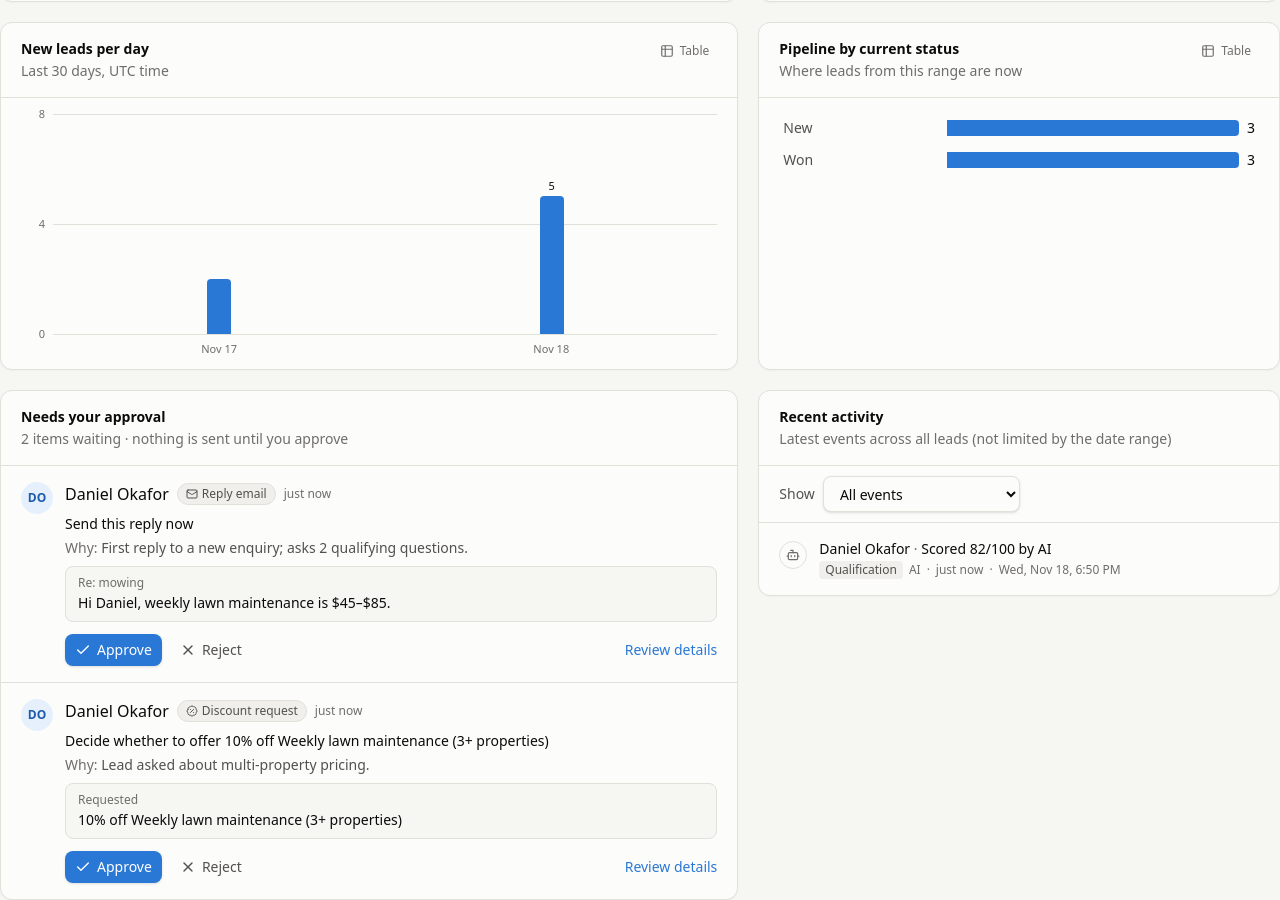
Test: Approvals › shows what needs approval, the AI recommendation, reason and preview, and approves via the API
The width and height of the screenshot is (1280, 900).
(page scrolled)
Expected: the text "Send this reply now" is shown, [65,514,193,533]
Expected: the text "First reply to a new enquiry; asks 2 qualifying questions." is shown, [101,538,468,557]
Click the button with aria-label "Approve discount request for Daniel Okafor".
click(113, 867)  # box [65,851,162,883]
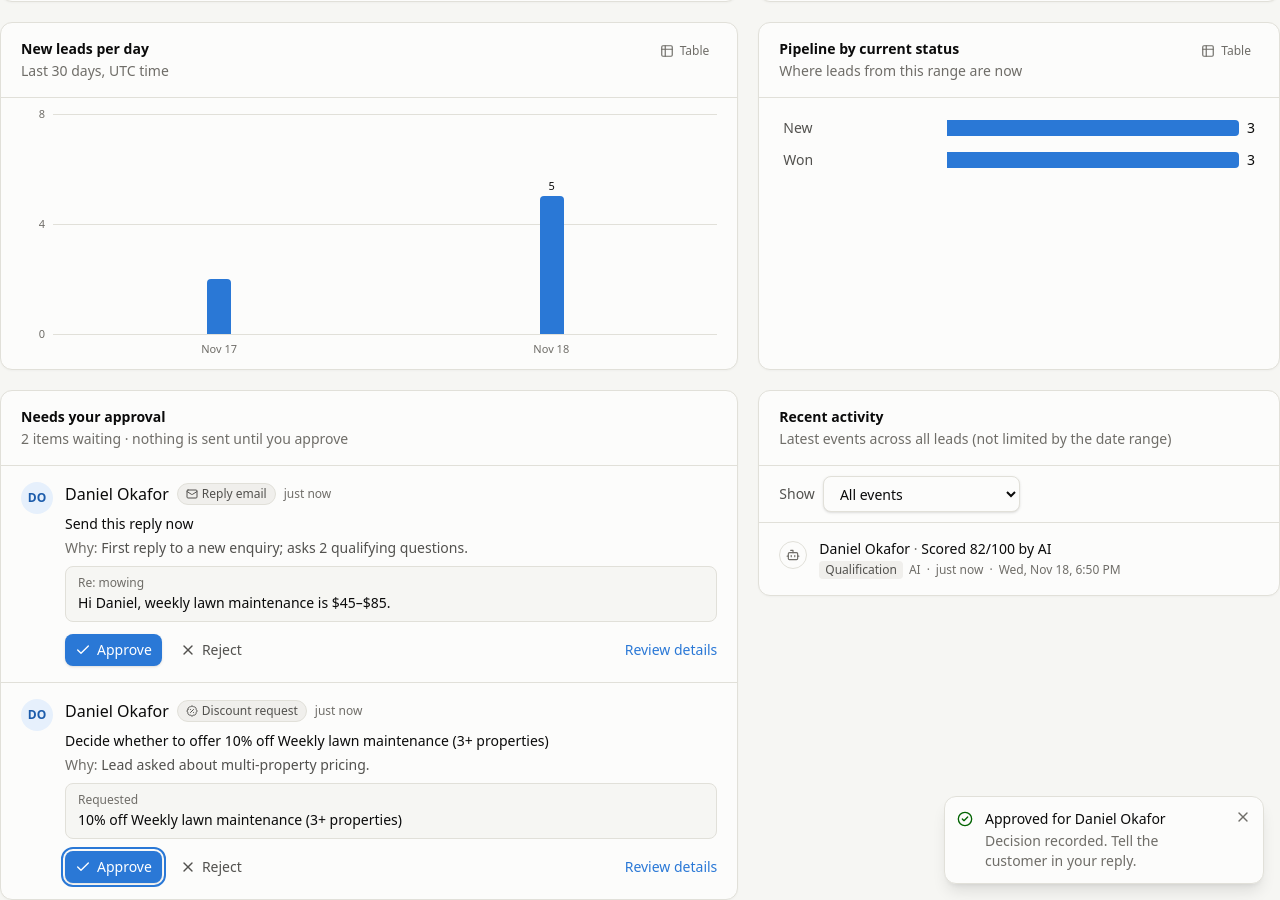
Expected: the text "Approved for Daniel Okafor" is shown, [985,809,1166,828]
